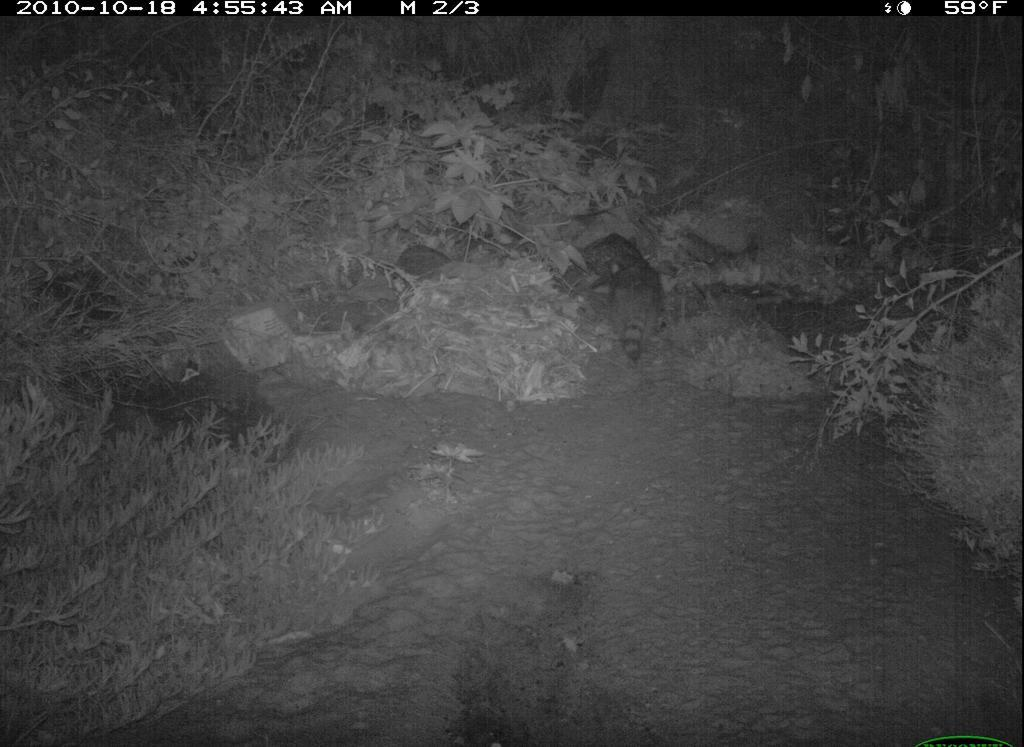raccoon: (589, 250, 692, 370)
